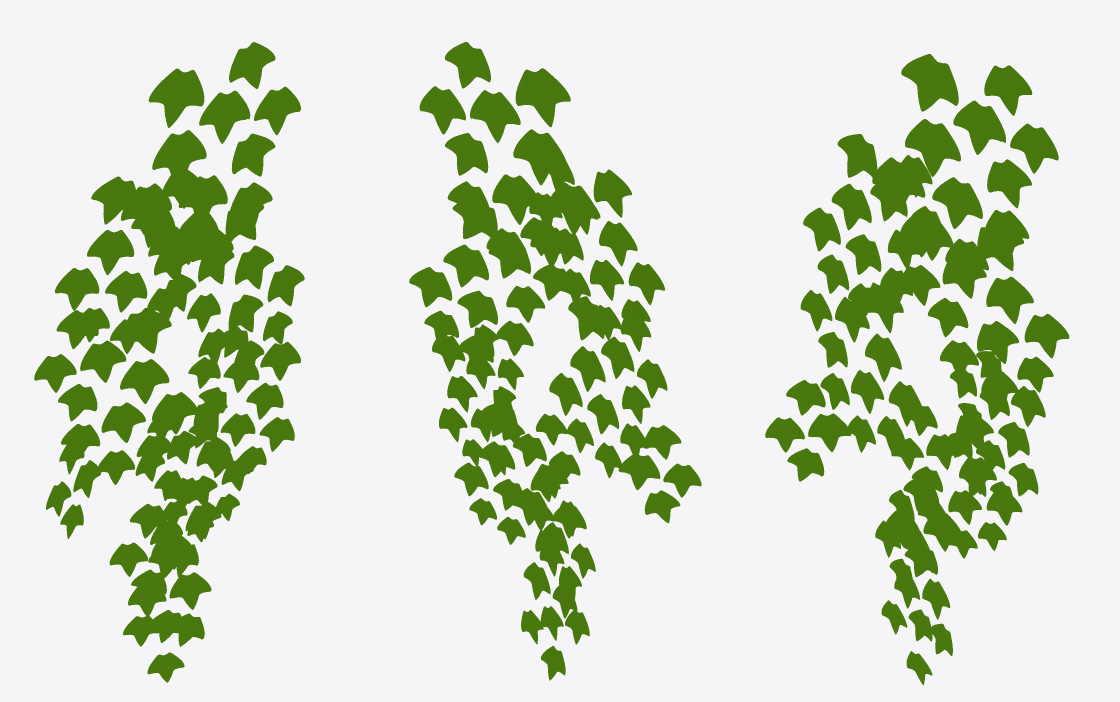
The model's file is Prop_Vine2.glb.
3 renders of one model, left to right at view 1: azimuth 30°, elevation 25°; view 2: azimuth 150°, elevation 25°; view 3: azimuth 330°, elevation 25°, orthographic. The views are drawn at different scales.
Parts seen in each view (by area): view 1: Prop_Vine2; view 2: Prop_Vine2; view 3: Prop_Vine2.
Boxes of the visible parts, bbox=[...] form: Prop_Vine2: bbox=[34, 42, 304, 682]; Prop_Vine2: bbox=[409, 42, 701, 680]; Prop_Vine2: bbox=[765, 54, 1069, 685].
Size of the model in its own units: 1.39 by 2.6 by 0.2138.
Materials: 1 (1 with a texture image).
